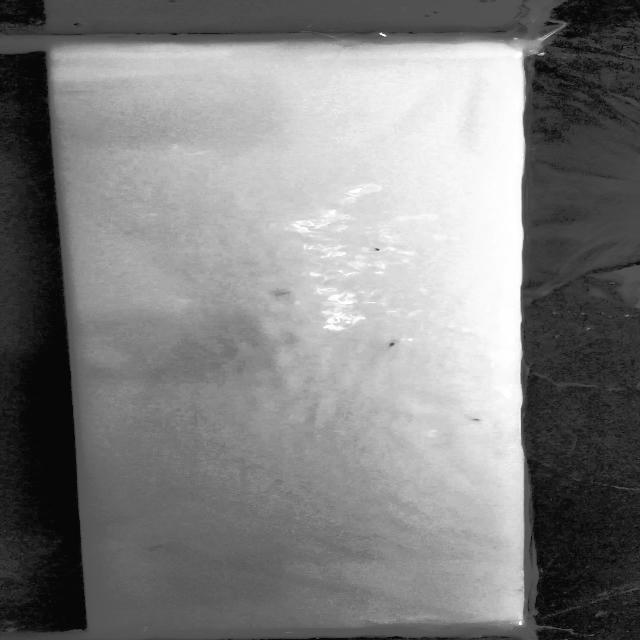shrimp: (144, 538, 180, 554), (378, 340, 402, 354), (271, 288, 300, 298), (462, 413, 491, 422), (370, 246, 386, 252)
